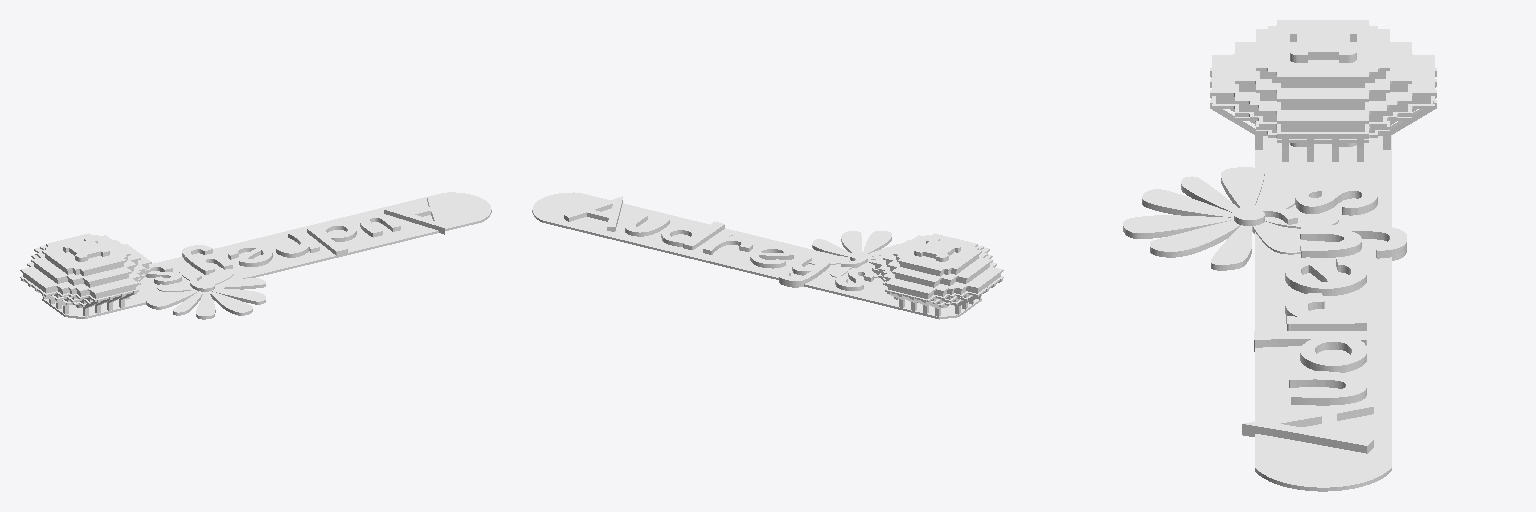
robot.urdf — bookmark1:
<?xml version="1.0" ?>
<robot name="bookmark1">
  <link name="baseLink">
    <contact>
      <lateral_friction value="1.0"/>
      <rolling_friction value="0.1"/>
      <contact_cfm value="1.0"/>
      <contact_erp value="1.0"/>
    </contact>
    <inertial>
      <origin rpy="0 0 0" xyz="0 0 0"/>
      <mass value="1.0"/>
       <inertia ixx="1" ixy="0" ixz="0" iyy="1" iyz="0" izz="1"/>
    </inertial>
    <visual>
      <origin rpy="0 0 0" xyz="0 0 0"/>
      <geometry>
	      <mesh filename="bookmark1.obj" scale="1.0 1.0 1.0"/>
      </geometry>
       <material name="white">
        <color rgba="1 1 1 1"/>
      </material>
    </visual>
    <collision>
      <origin rpy="0 0 0" xyz="0 0 0"/>
      <geometry>
	 	<mesh filename="bookmark1.obj" scale="1.0 1.0 1.0"/>
      </geometry>
    </collision>
  </link>
</robot>

--- What the picture shows (computed from the rendered views, not written in the file) ---
3 views of the same robot in one strip: view 1: azimuth 30°, elevation 25°; view 2: azimuth 150°, elevation 25°; view 3: azimuth 270°, elevation 25° (orthographic).
Robot: bookmark1 — 1 links, 0 joints (none); root link baseLink; default pose: all joints at 0.
Visible links, largest first — view 1: baseLink; view 2: baseLink; view 3: baseLink.
Boxes of the visible links, bbox=[...] form: baseLink: bbox=[20, 192, 491, 319]; baseLink: bbox=[532, 192, 1003, 319]; baseLink: bbox=[1123, 20, 1436, 491].
Bounding box of the posed robot: 150 × 49.41 × 16.68 m (x, y, z).
Meshes: 1 distinct files referenced, 1 mesh visuals loaded (1 OBJ).
